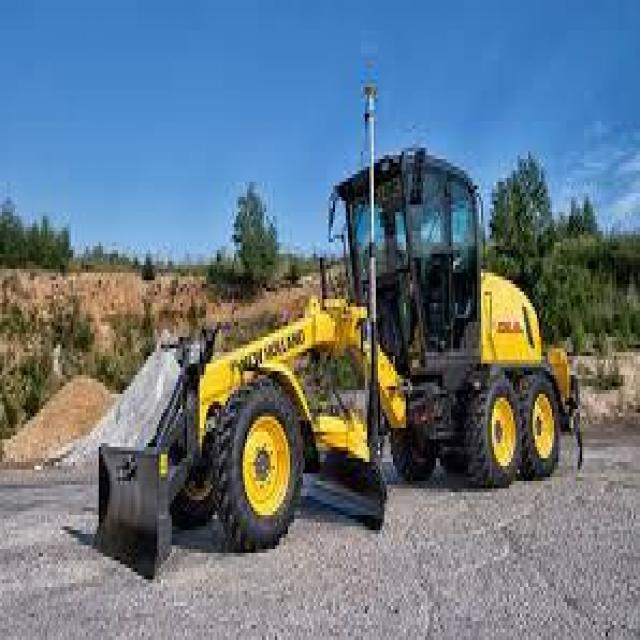Grader: (77, 99, 584, 602)
